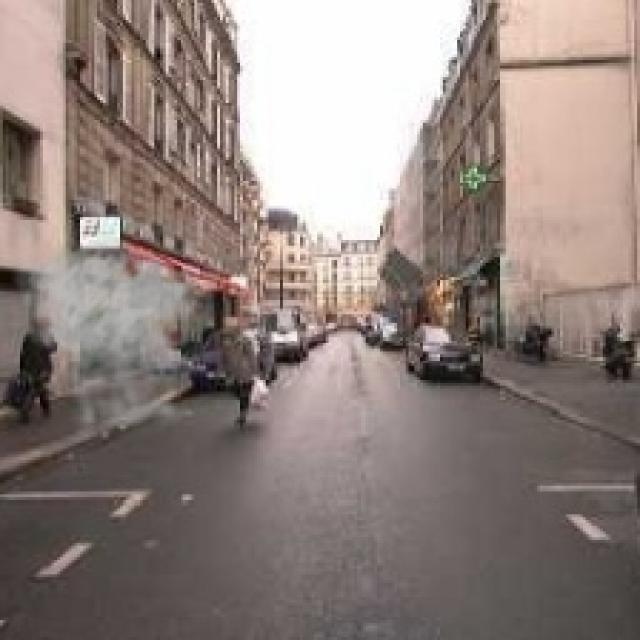Smoke: (11, 234, 220, 443)
